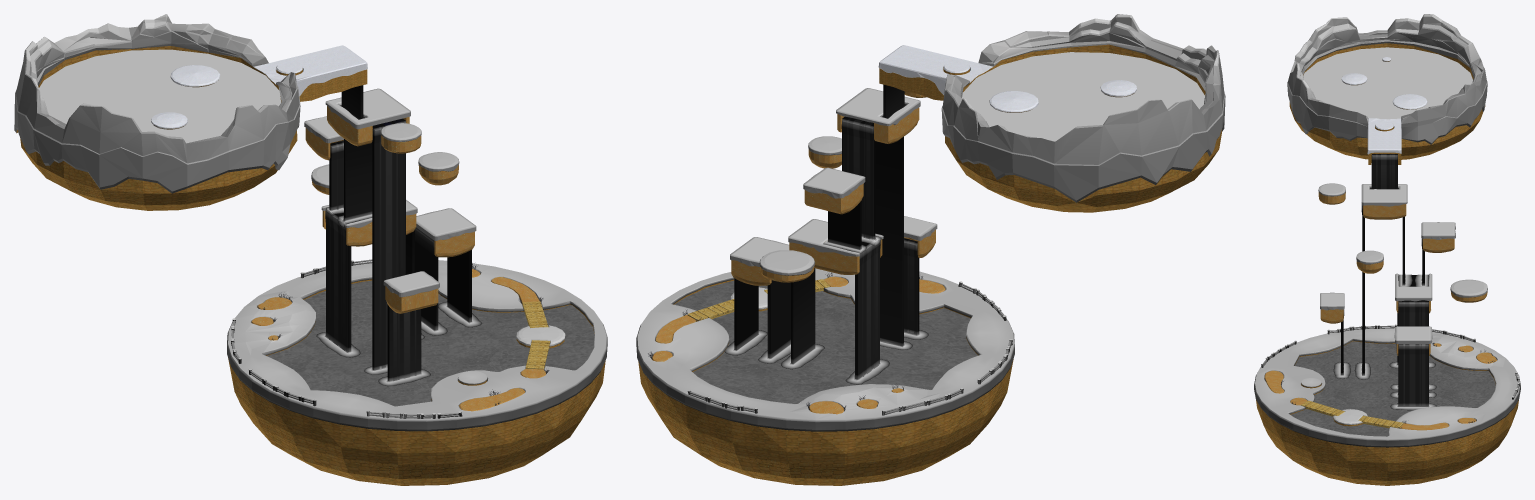
File: TwinFallLakePlanet.dae
3 renders of one model, left to right at view 1: azimuth 30°, elevation 25°; view 2: azimuth 150°, elevation 25°; view 3: azimuth 270°, elevation 25°, orthographic. The views are drawn at different scales.
Parts seen in each view (by area): view 1: m3, m5, m14, m1, m0, m2, m4, m15, m13, m9, m6; view 2: m3, m5, m14, m1, m0, m2, m4, m15, m13, m6, m9, m8; view 3: m3, m5, m14, m0, m2, m1, m4, m15, m13, m9, m6, m8.
Boxes of the visible parts, <box> form: m3: <box>227,88,607,431</box>; m5: <box>16,46,605,485</box>; m14: <box>14,14,300,193</box>; m1: <box>324,85,472,382</box>; m0: <box>267,280,594,406</box>; m2: <box>39,49,280,143</box>; m4: <box>251,106,545,411</box>; m15: <box>151,45,367,128</box>; m13: <box>316,207,481,386</box>; m9: <box>522,301,550,369</box>; m6: <box>231,260,462,418</box>; m3: <box>636,88,1014,431</box>; m5: <box>638,44,1221,485</box>; m14: <box>941,14,1225,202</box>; m1: <box>733,84,920,380</box>; m0: <box>674,280,977,403</box>; m2: <box>962,52,1204,141</box>; m4: <box>652,91,945,414</box>; m15: <box>878,45,1136,112</box>; m13: <box>724,236,928,384</box>; m6: <box>687,282,1012,415</box>; m9: <box>687,279,830,320</box>; m8: <box>690,283,1011,414</box>; m3: <box>1254,183,1520,447</box>; m5: <box>1256,43,1518,485</box>; m14: <box>1287,14,1487,144</box>; m0: <box>1290,341,1495,436</box>; m2: <box>1303,47,1472,119</box>; m1: <box>1340,154,1429,407</box>; m4: <box>1264,192,1496,430</box>; m15: <box>1341,57,1427,154</box>; m13: <box>1333,274,1436,410</box>; m9: <box>1301,400,1403,428</box>; m6: <box>1261,325,1520,399</box>; m8: <box>1263,325,1519,397</box>.
Bounding box in the file's own units: 13966 × 11313 × 8400.
